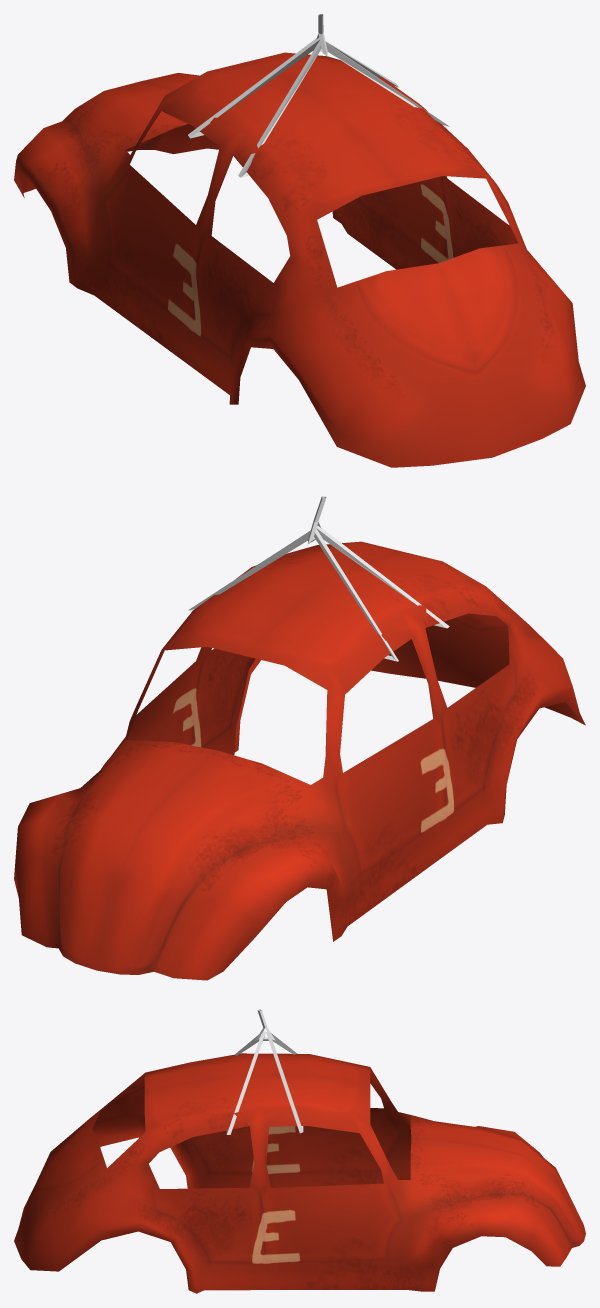
The model's file is VwBeetle.fbx.
The picture shows the model from 3 angles, top to bottom: view 1: azimuth 30°, elevation 25°; view 2: azimuth 150°, elevation 25°; view 3: azimuth 270°, elevation 25°; orthographic projection. The views are drawn at different scales.
Parts seen in each view (by area): view 1: Cube; view 2: Cube; view 3: Cube.
Part boxes in pixels (x1,y1,x2,y2): Cube: (14,14,585,467); Cube: (14,496,585,980); Cube: (14,1009,585,1293).
Bounding box in the file's own units: 3.66 × 4.06 × 8.97.
